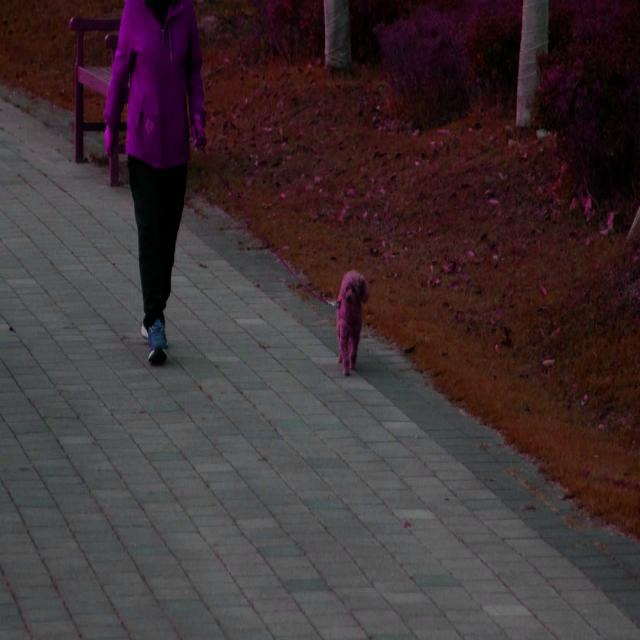Leashed_Dog: (164, 119, 368, 375)
